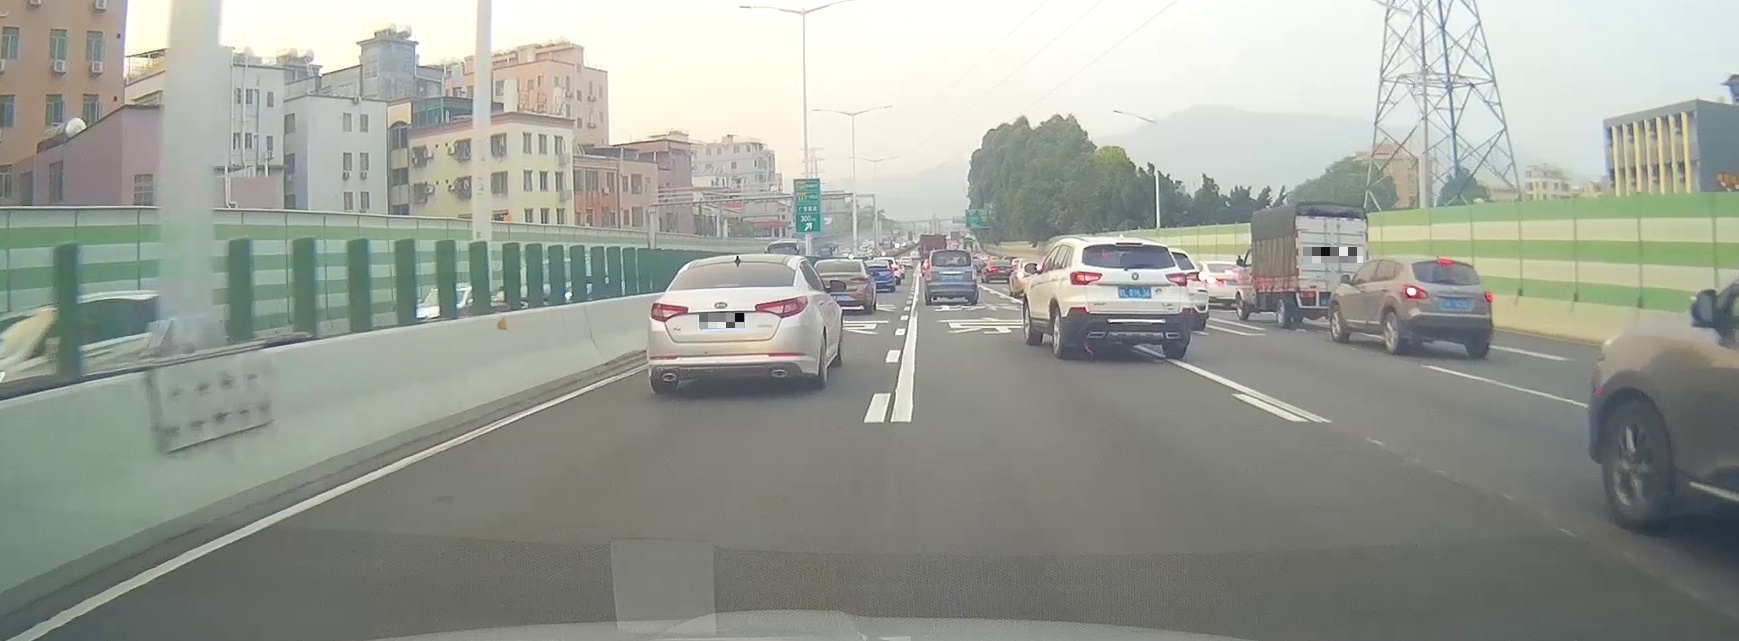L_light: (650, 303, 688, 322), (1069, 271, 1104, 286), (1404, 284, 1428, 299), (926, 265, 930, 281)
R_light: (754, 294, 809, 319), (1165, 272, 1188, 287), (1479, 291, 1491, 301), (972, 264, 977, 281)
T_light: (1116, 241, 1143, 247), (715, 283, 739, 289), (1437, 260, 1451, 264), (946, 251, 956, 253)
day-left: (1068, 236, 1193, 359), (1401, 256, 1493, 357)
day-no: (647, 254, 818, 393), (925, 250, 979, 305)
plate_1: (699, 313, 745, 328)
plate_2: (1303, 247, 1363, 263)
